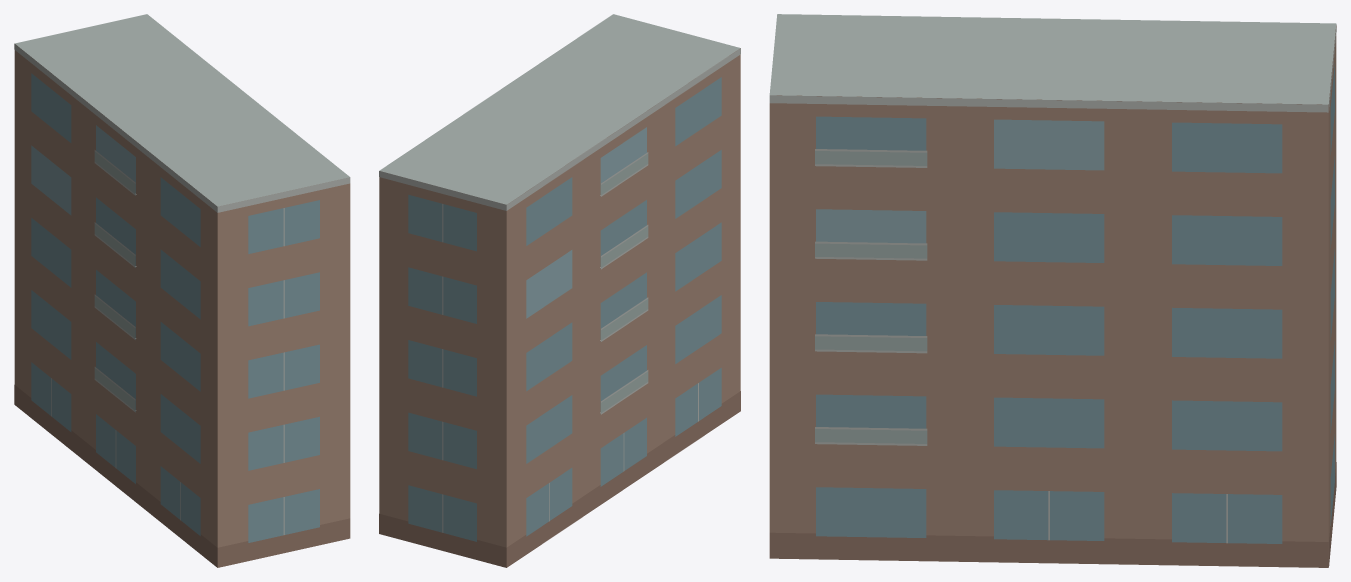
File: survey-upis-32562066.glb
The picture shows the model from 3 angles, left to right: view 1: azimuth 30°, elevation 25°; view 2: azimuth 150°, elevation 25°; view 3: azimuth 270°, elevation 25°; orthographic projection. The views are drawn at different scales.
Parts seen in each view (by area): view 1: survey-upis-32562066.tmp; view 2: survey-upis-32562066.tmp; view 3: survey-upis-32562066.tmp.
Boxes of the visible parts, left/top/right/bottom form: survey-upis-32562066.tmp: left=14, top=14, right=350, bottom=567; survey-upis-32562066.tmp: left=379, top=14, right=740, bottom=567; survey-upis-32562066.tmp: left=769, top=14, right=1336, bottom=567.
Bounding box in the file's own units: 5.96 × 14.2 × 15.76.
